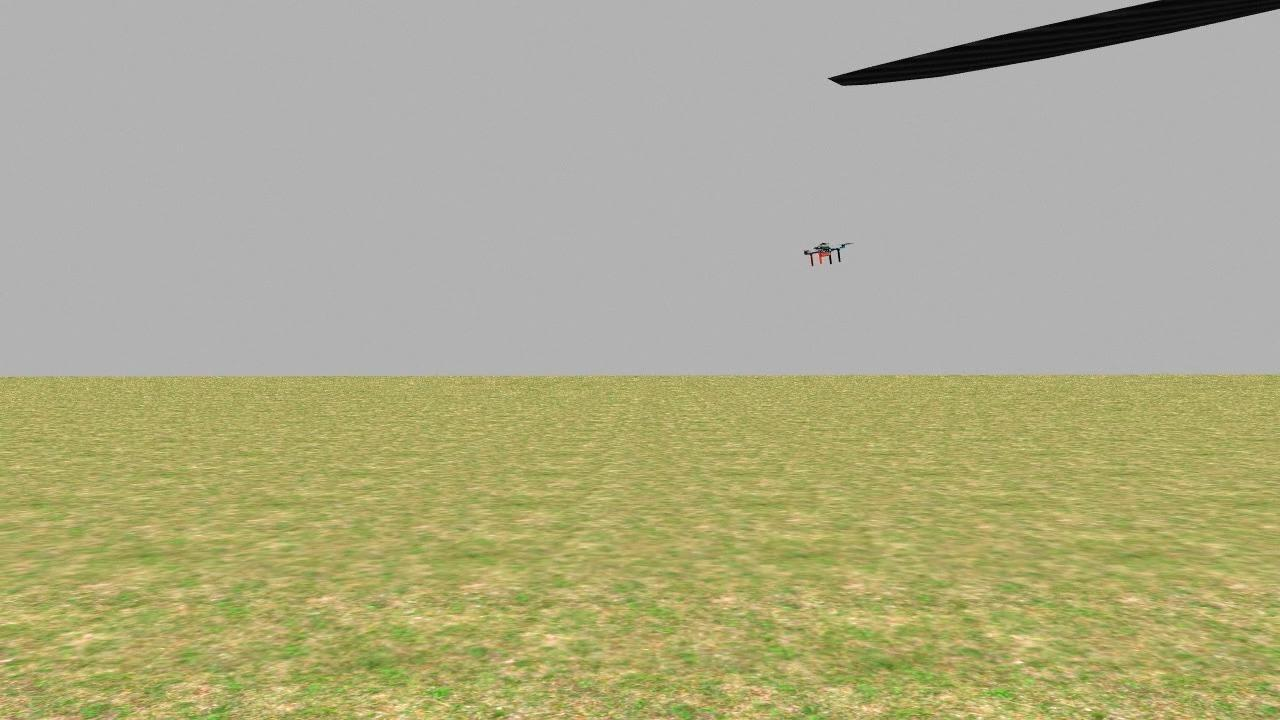UAV: (788, 229, 863, 279)
